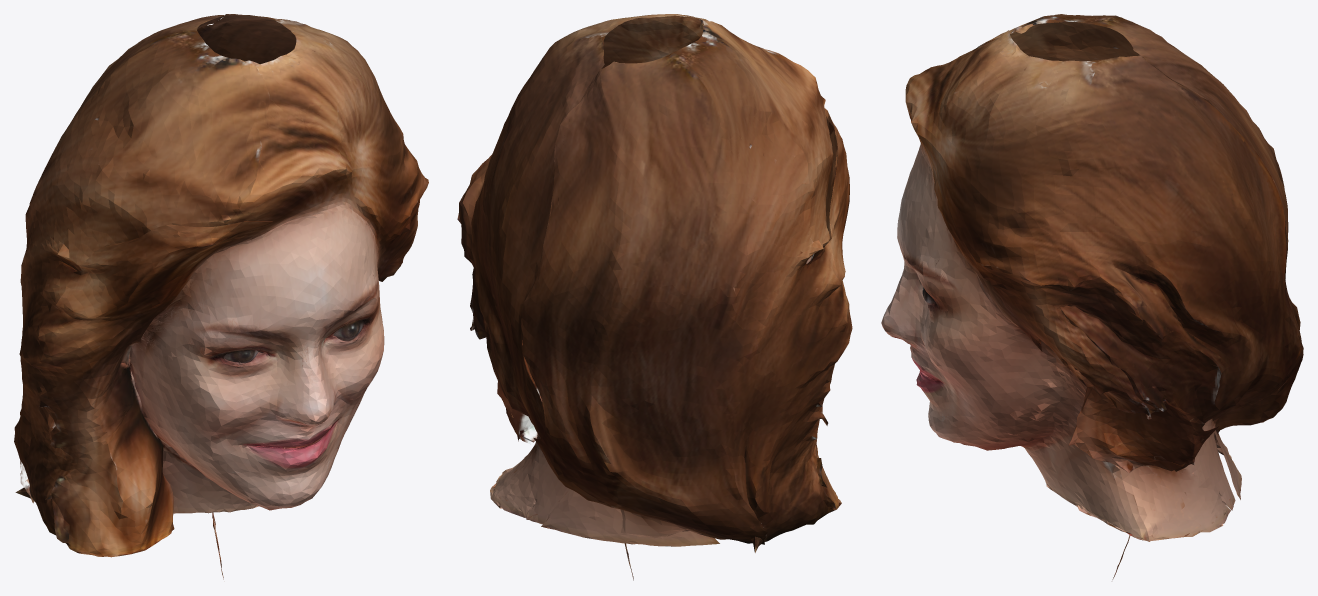
3 renders of one model, left to right at view 1: azimuth 30°, elevation 25°; view 2: azimuth 150°, elevation 25°; view 3: azimuth 270°, elevation 25°, orthographic. The views are drawn at different scales.
Bounding box in the file's own units: 1.26 × 1.8 × 1.27.
Materials: 1 (1 with a texture image).
